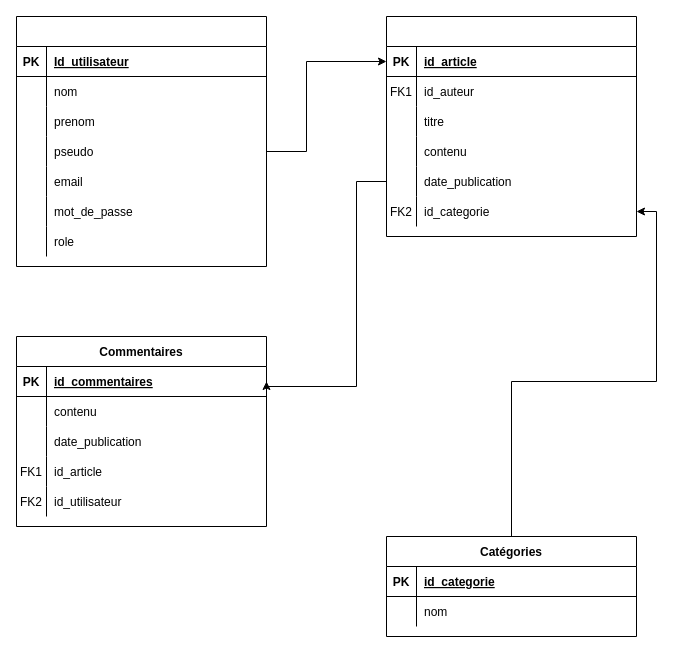
The diagram is 673 pixels wide and 653 high, and some of its shapes have lost their labels. The box of each missing label's shape, as (x1, y1, x2, y2) in pixels:
Articles: (386, 16, 636, 236)
Utilisateurs: (16, 16, 266, 266)
